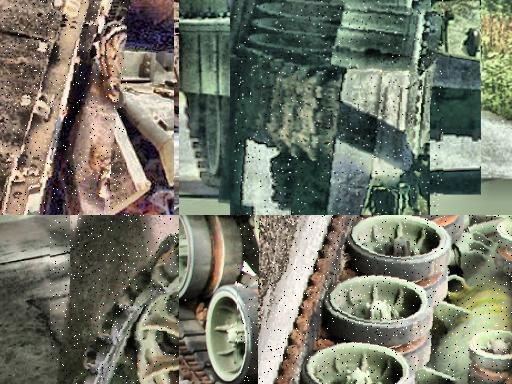tanks: (235, 1, 444, 215), (276, 216, 512, 384), (1, 1, 128, 216), (77, 232, 180, 384)
